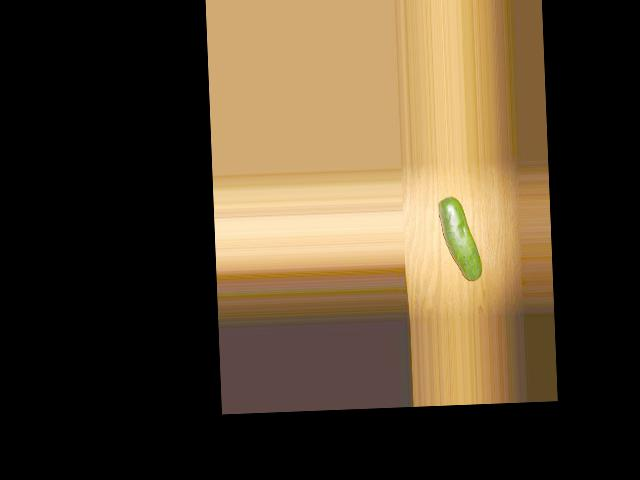cucumber: (437, 197, 481, 282)
